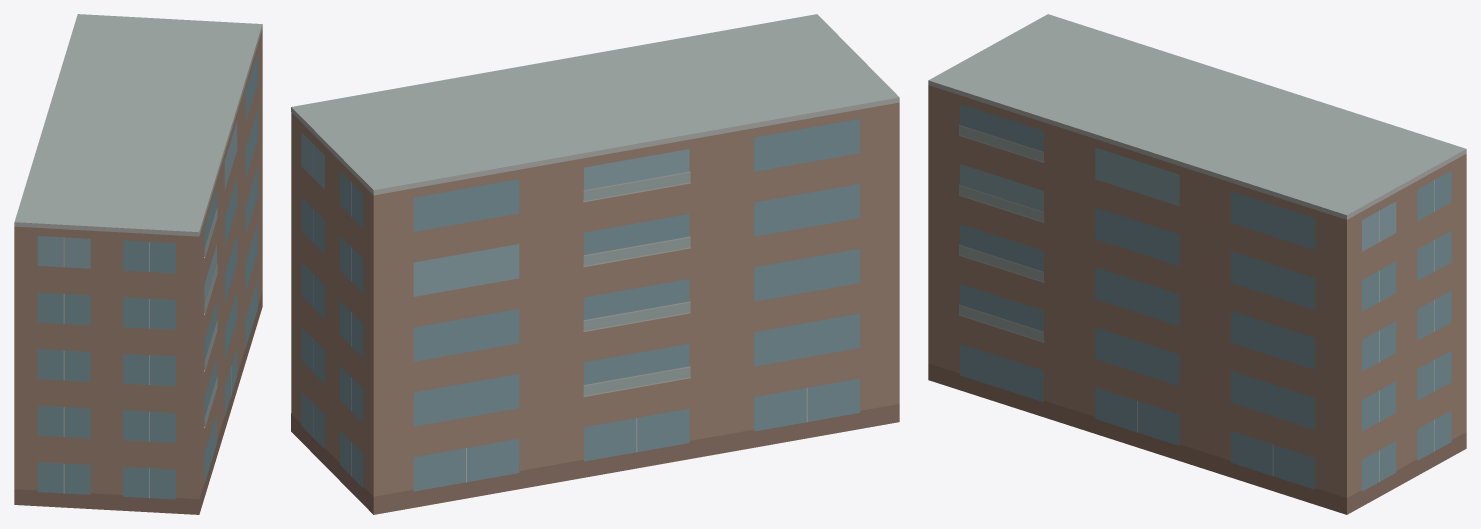
File: survey-upis-32574536.glb
3 views of the same model, side by side, from view 1: azimuth 30°, elevation 25°; view 2: azimuth 150°, elevation 25°; view 3: azimuth 270°, elevation 25° (orthographic). The views are drawn at different scales.
Visible parts, largest first — view 1: survey-upis-32574536.tmp; view 2: survey-upis-32574536.tmp; view 3: survey-upis-32574536.tmp.
Part boxes in pixels (<box>): survey-upis-32574536.tmp: <box>14,14,262,514</box>; survey-upis-32574536.tmp: <box>291,14,899,514</box>; survey-upis-32574536.tmp: <box>928,14,1466,514</box>.
Size of the model in its own units: 22.62 by 15.7 by 25.57.
